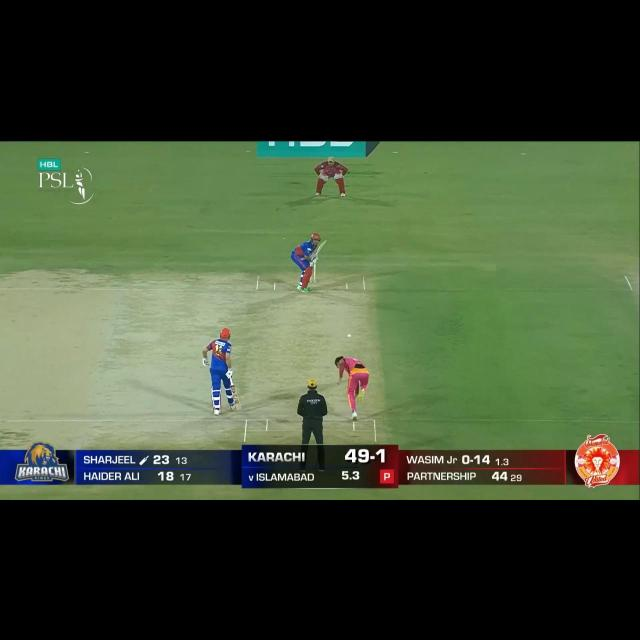bat: (230, 385, 243, 411), (315, 240, 328, 255)
toe: (234, 402, 242, 410), (322, 238, 328, 246)
